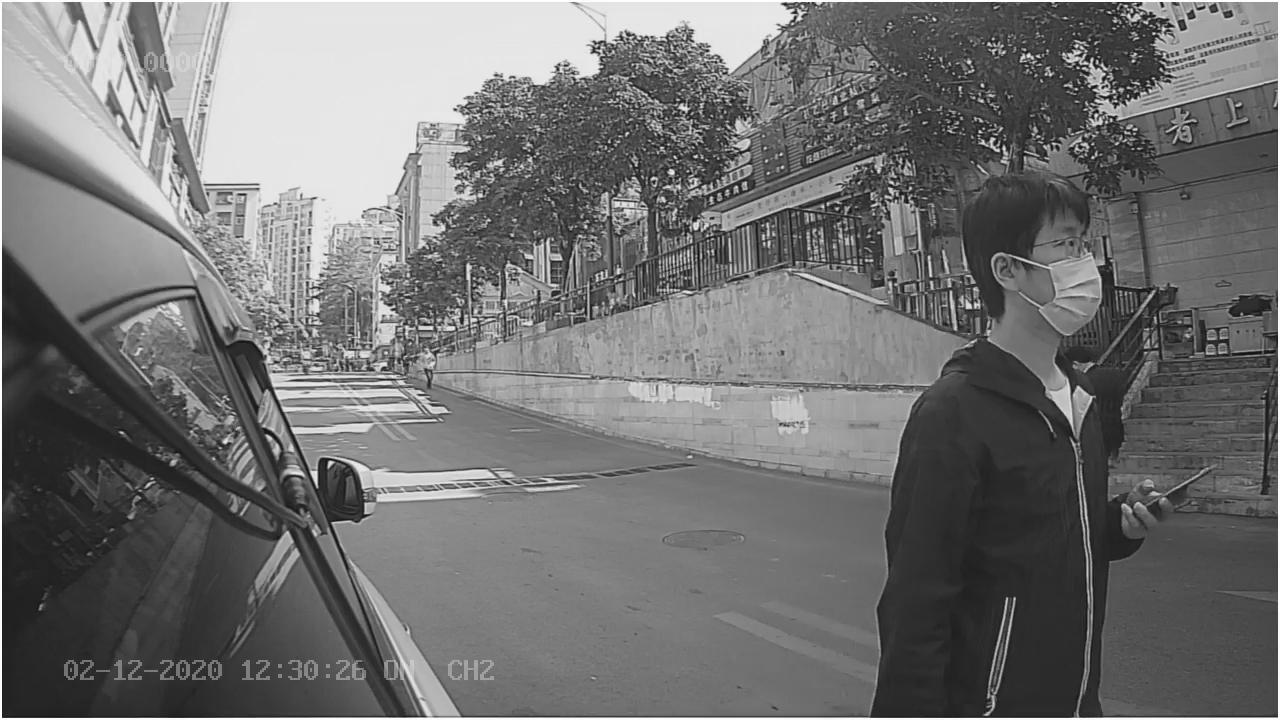person: (884, 164, 1181, 584)
